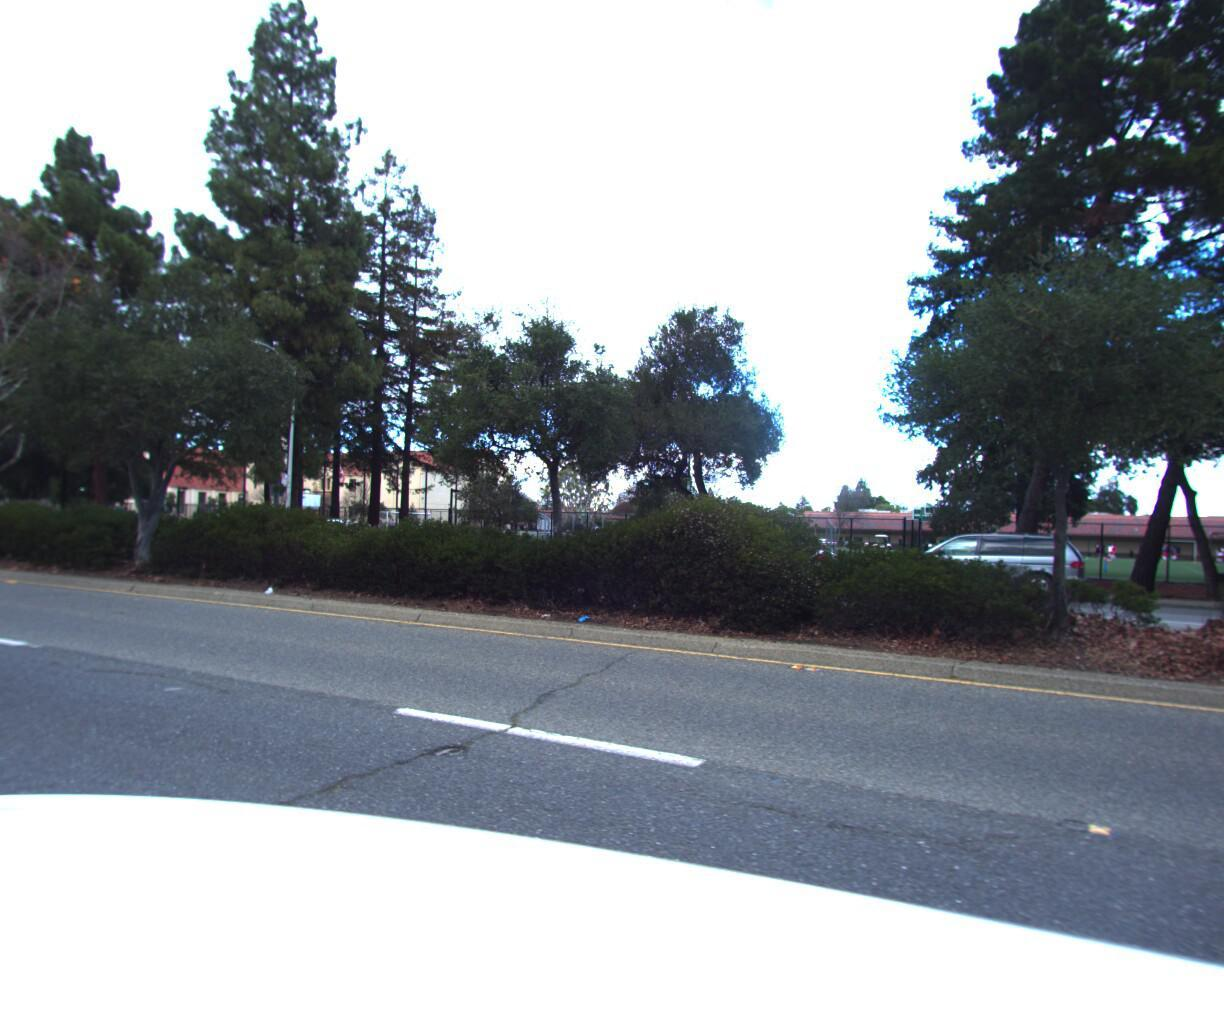car: (880, 522, 1090, 606)
